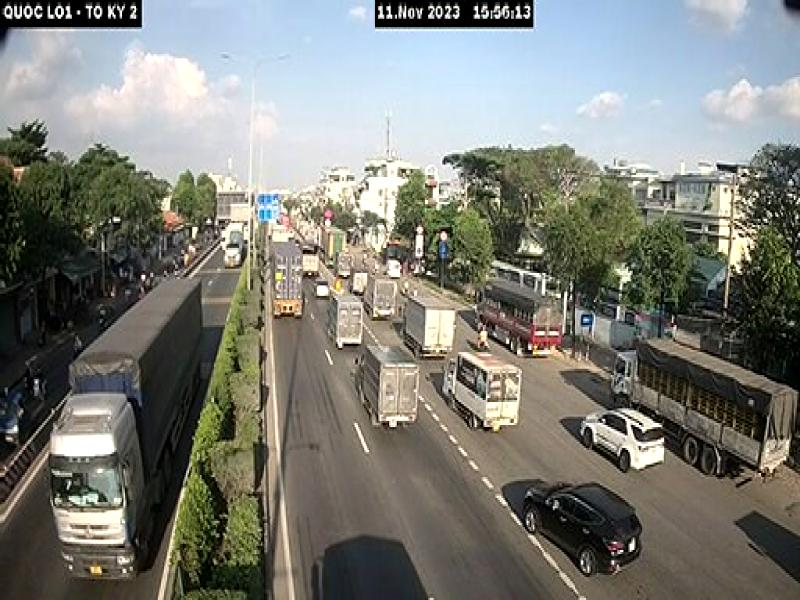truck: (50, 276, 201, 582), (611, 345, 799, 481), (474, 278, 566, 360), (443, 356, 524, 434), (356, 339, 421, 428), (400, 297, 456, 361), (269, 236, 305, 320), (328, 288, 363, 346)
